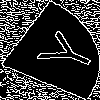Y: (25, 25, 100, 77)
